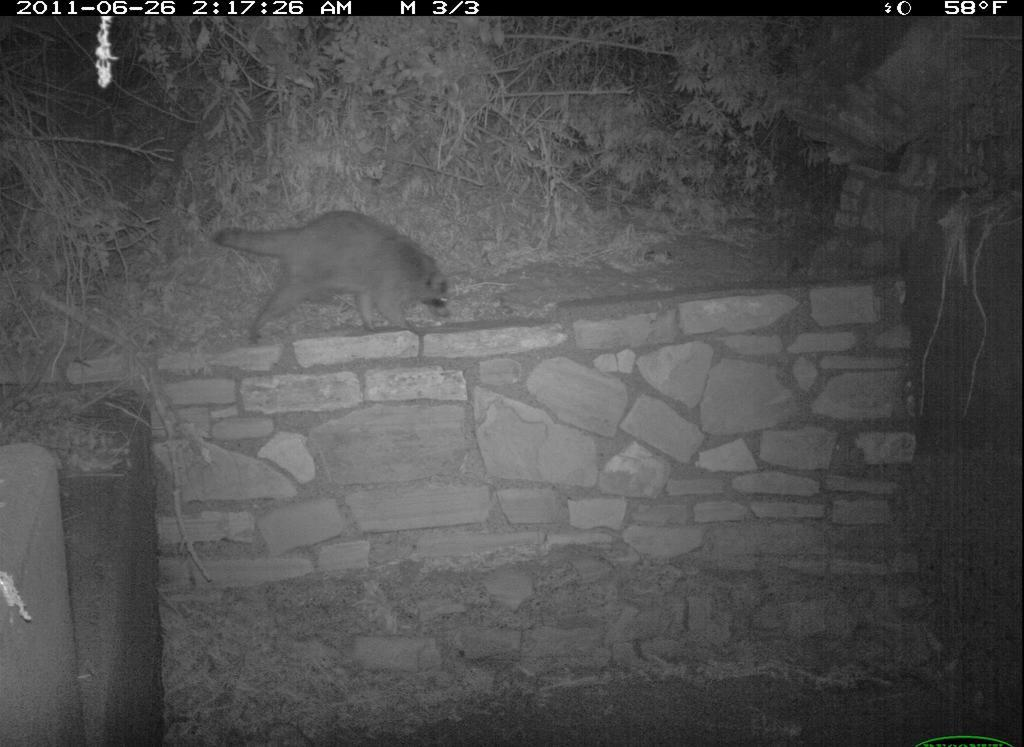raccoon: (210, 207, 465, 359)
